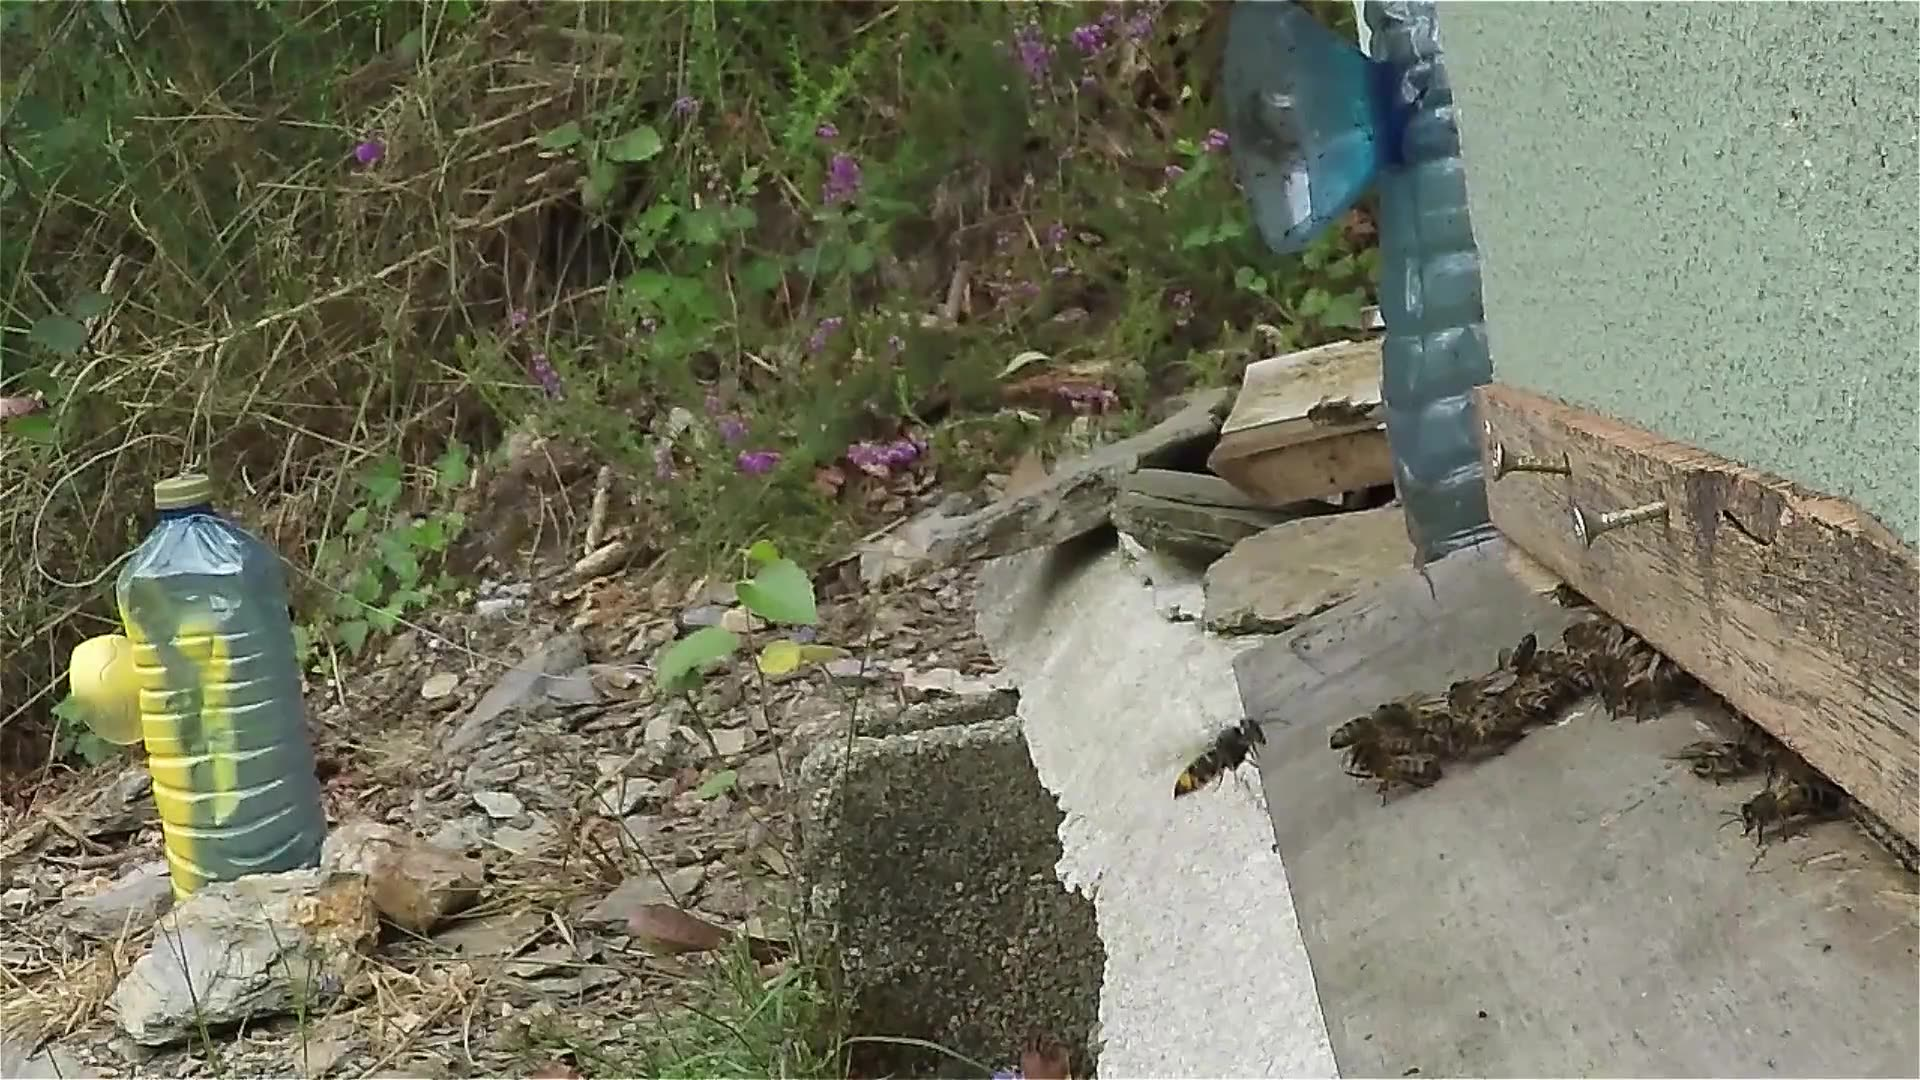bee: (1486, 612, 1695, 735), (1319, 676, 1480, 794), (1724, 758, 1841, 844)
hornet: (1160, 705, 1283, 804)
